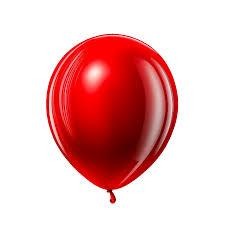red: (45, 32, 177, 198)
